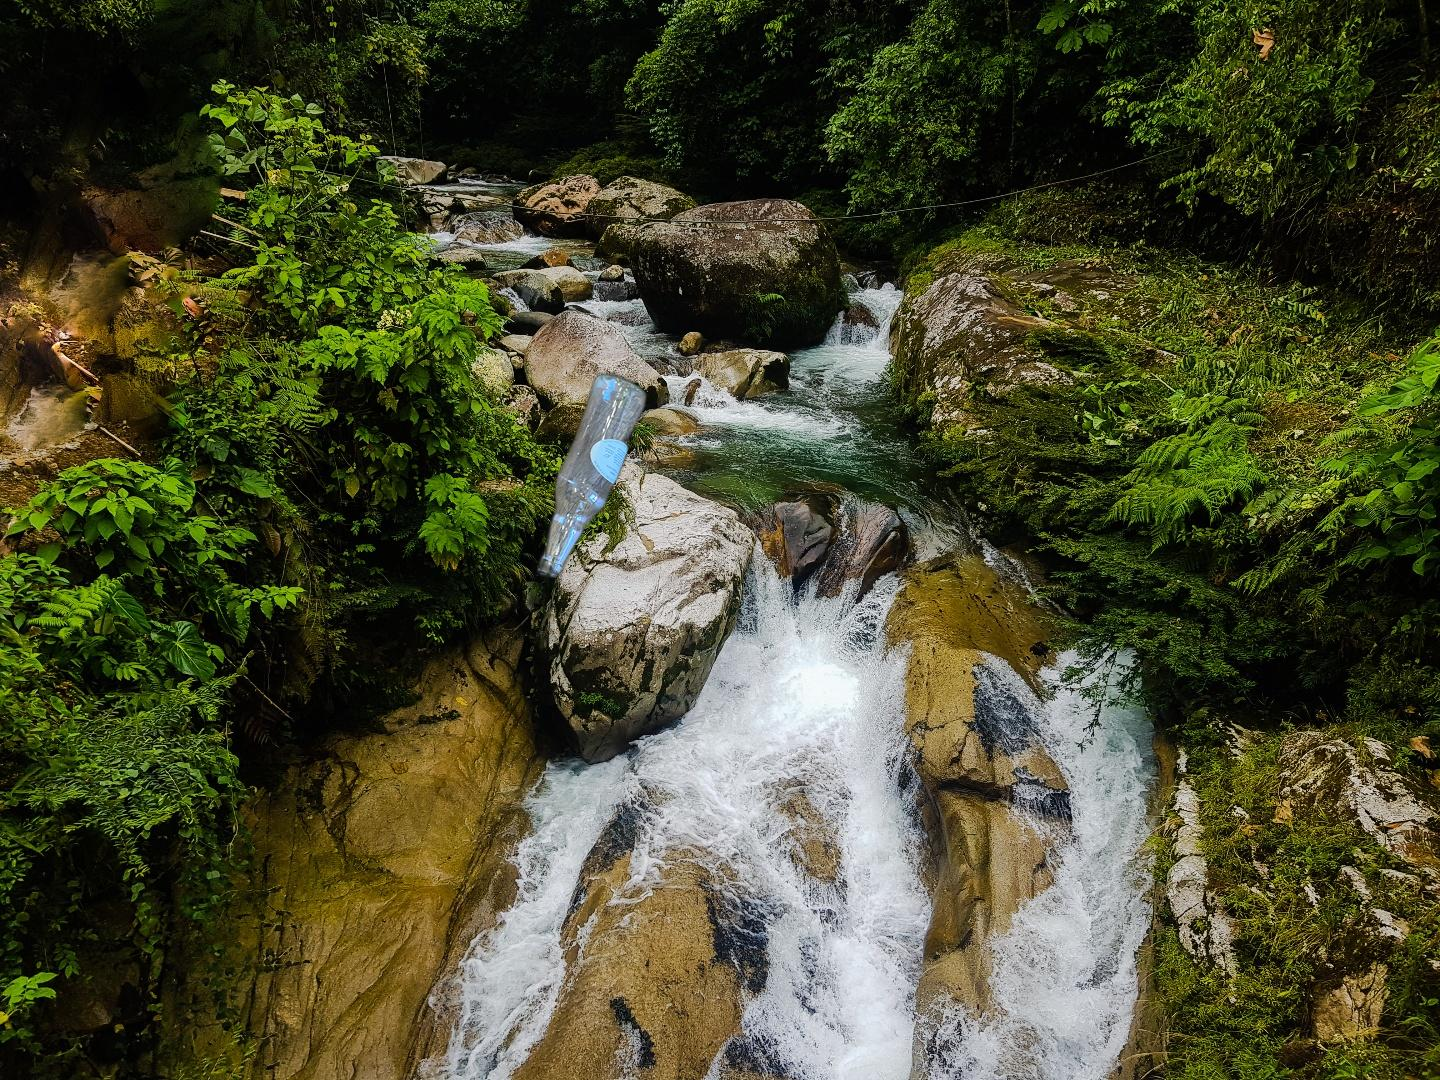glass: (532, 368, 651, 584)
